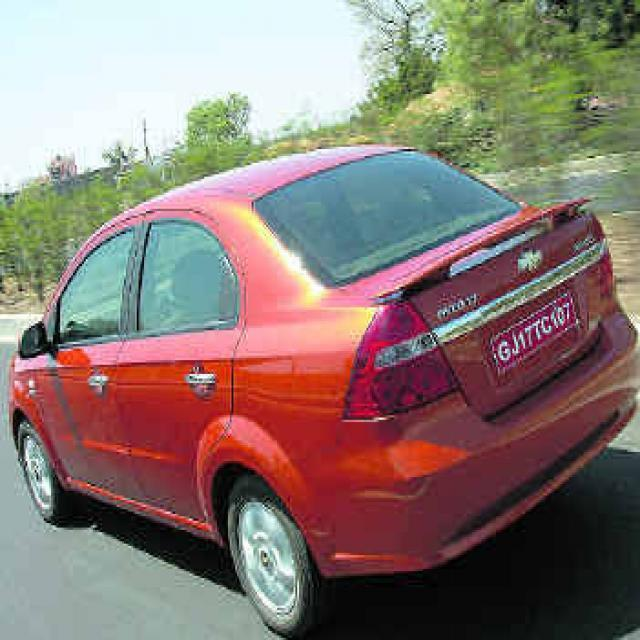License_Plate: (489, 292, 578, 372)
